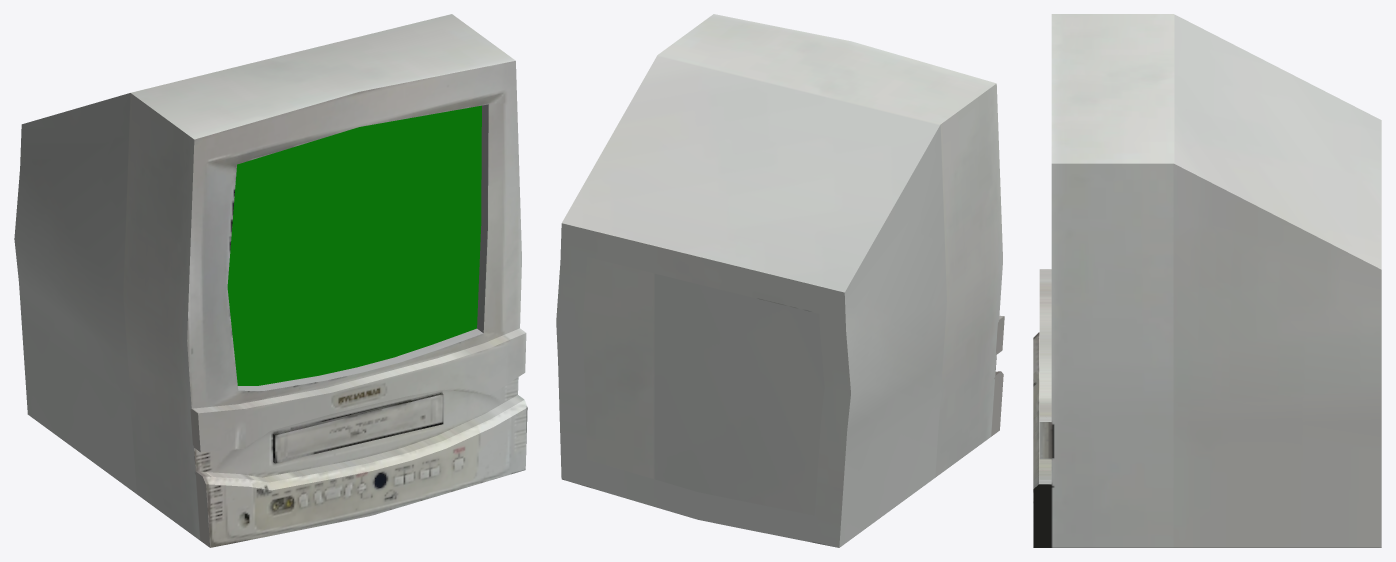
3 views of the same model, side by side, from view 1: azimuth 30°, elevation 25°; view 2: azimuth 150°, elevation 25°; view 3: azimuth 270°, elevation 25° (orthographic). The views are drawn at different scales.
Parts seen in each view (by area): view 1: TV2, TV2-Screen; view 2: TV2; view 3: TV2.
Boxes of the visible parts, <box> form: TV2: <box>14,14,527,547</box>; TV2-Screen: <box>227,105,481,385</box>; TV2: <box>556,14,1004,547</box>; TV2: <box>1033,14,1381,547</box>.
Bounding box in the file's own units: 0.7003 × 0.8341 × 0.6605.
2 materials, 1 textured.
